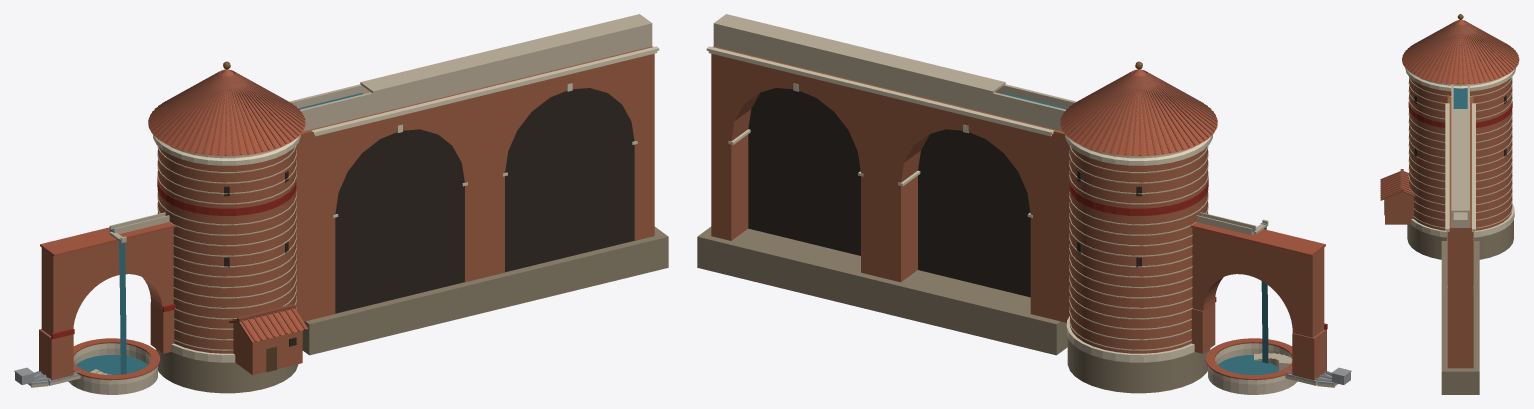
The model's file is rome_castellum.glb.
The picture shows the model from 3 angles, left to right: view 1: azimuth 30°, elevation 25°; view 2: azimuth 150°, elevation 25°; view 3: azimuth 270°, elevation 25°; orthographic projection. The views are drawn at different scales.
Parts seen in each view (by area): view 1: rome_castellum; view 2: rome_castellum; view 3: rome_castellum.
Boxes of the visible parts, x1,y1,x2,y2 form: rome_castellum: (14, 14, 668, 394); rome_castellum: (697, 14, 1351, 394); rome_castellum: (1380, 14, 1519, 394).
Size of the model in its own units: 63.93 by 28.85 by 16.19.
